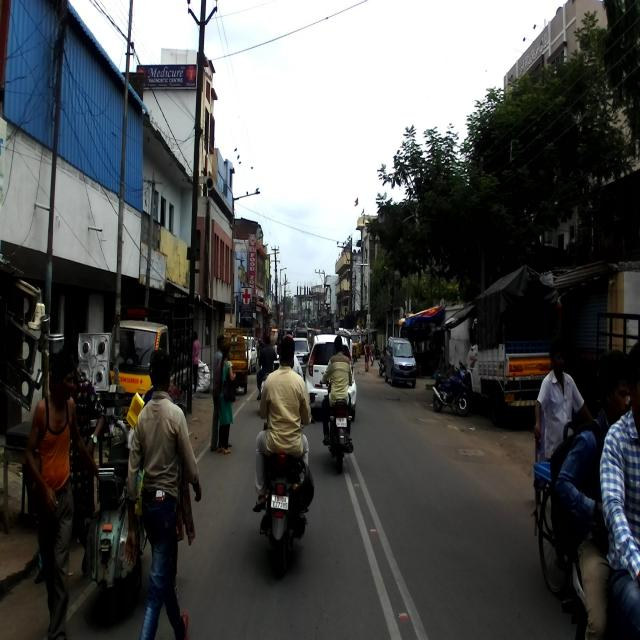Car_Maruti-Suzuki: (384, 334, 417, 387)
motorcycle_Hero: (320, 378, 355, 477)
motorcycle_Yamaha: (250, 390, 317, 584)
motorcycle_bajaj: (430, 366, 470, 416)
scooter: (82, 410, 146, 612)
